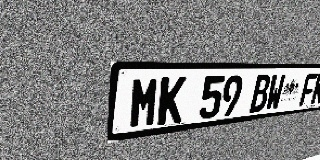5: (199, 75, 225, 120)
9: (219, 75, 244, 117)
B: (249, 74, 272, 113)
F: (299, 73, 318, 106)
K: (157, 76, 187, 125), (310, 73, 320, 105)
M: (128, 77, 161, 129)
W: (265, 74, 286, 111)
